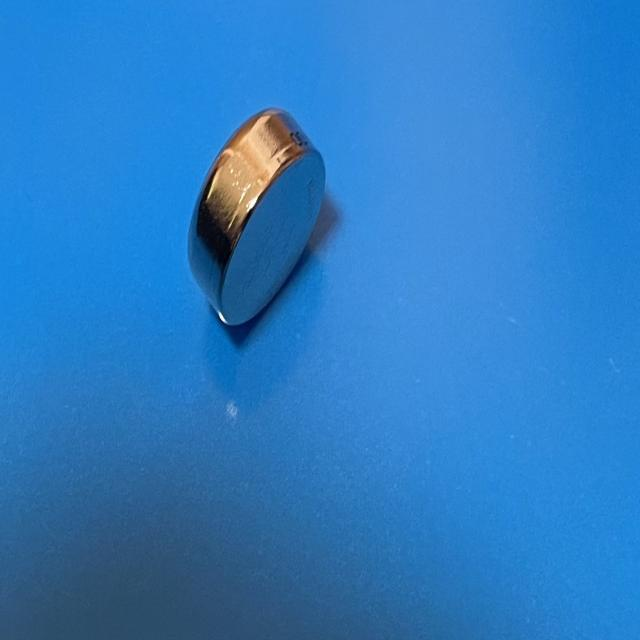COIN: (182, 107, 328, 330)
